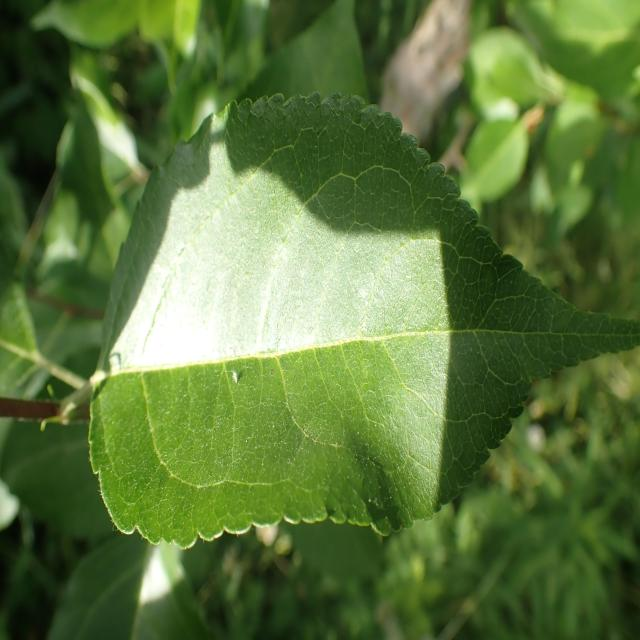healthy: (87, 91, 640, 551)
